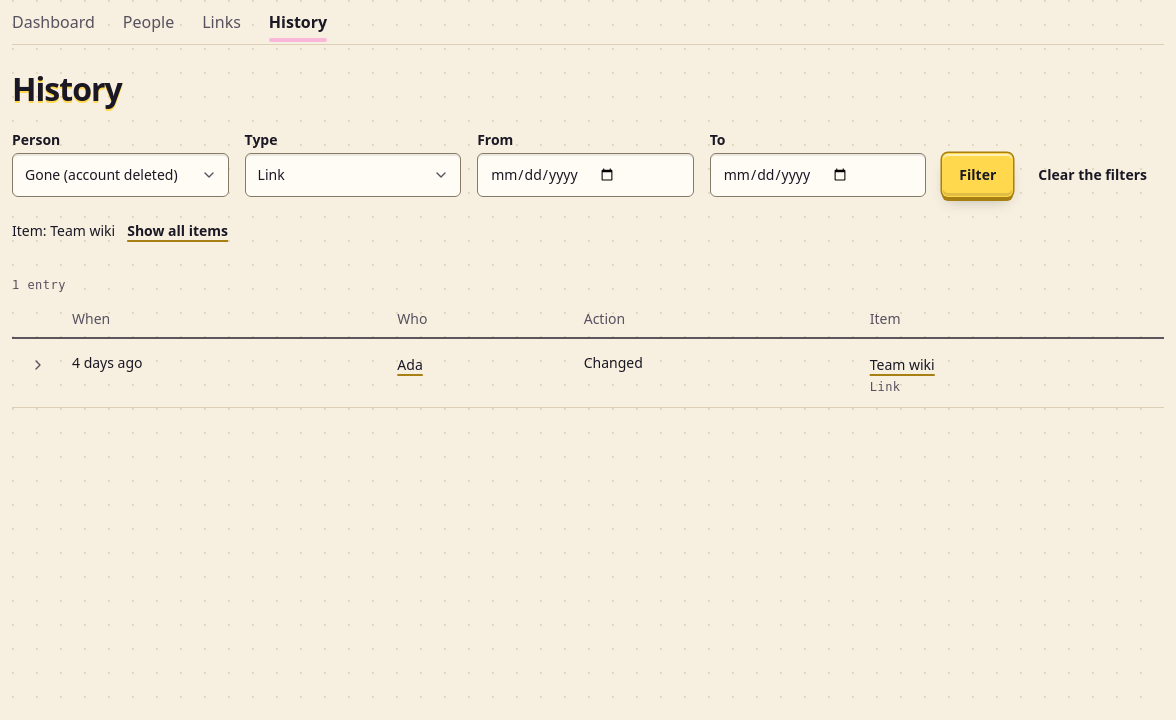
Test: HistoryPage › reads the filters of the address, the item one included, and can drop the item
The image size is (1176, 720).
Expected: the message reads "1 entry", [12, 278, 66, 292]
Expected: the dropdown labelled "Type" shows "Link", [245, 153, 461, 197]
What coordinates should you click on to do the following:
click the button "Show all items"
I would click on:
 (178, 231)
Its box is [127, 209, 228, 253].
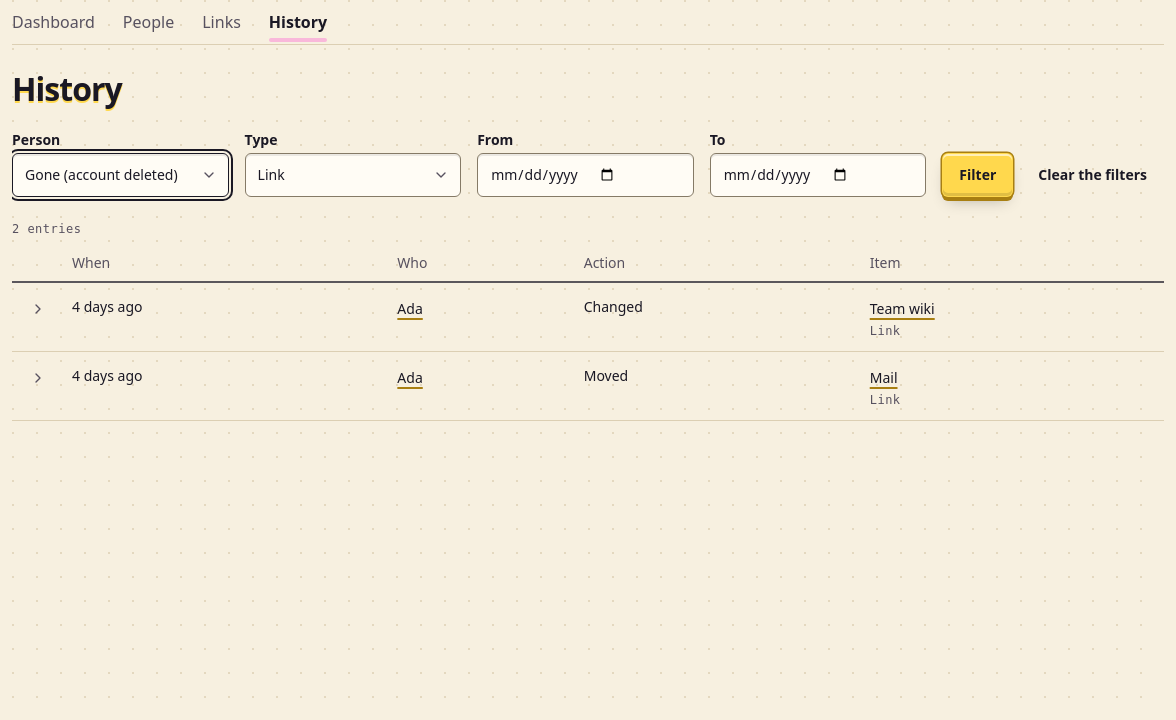
Expected: the message reads "2 entries", [12, 222, 81, 236]
